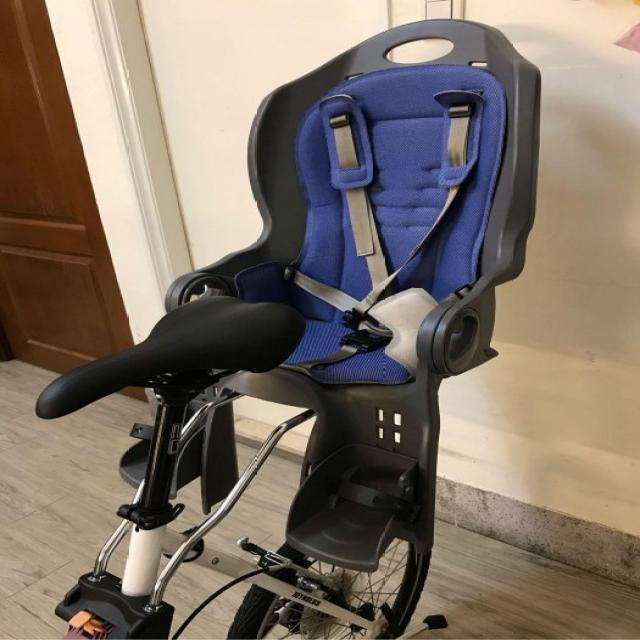childseat: (114, 16, 551, 570)
